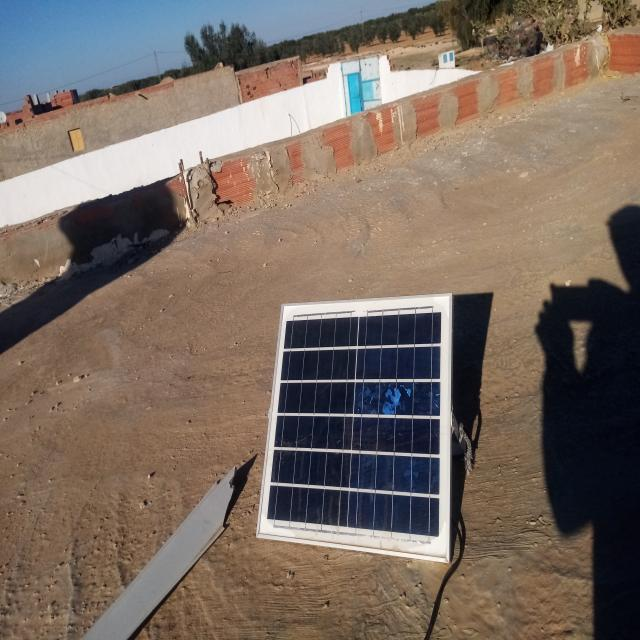faulty: (258, 293, 452, 561)
